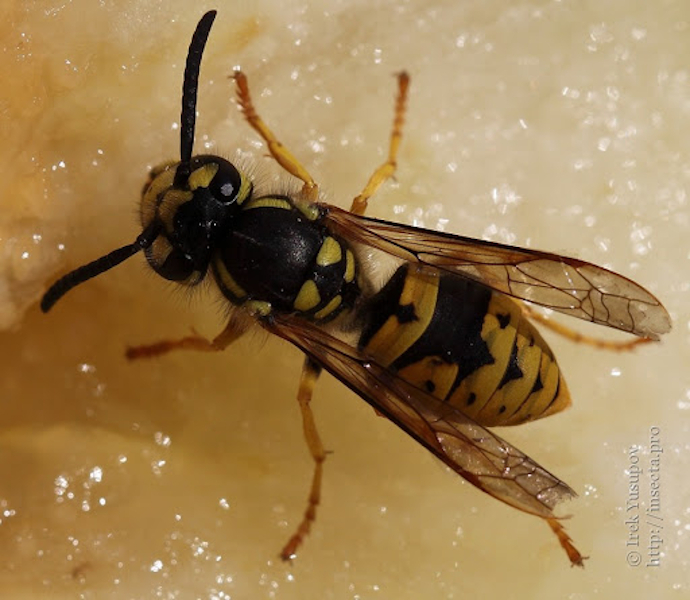chax: (28, 10, 688, 593)
